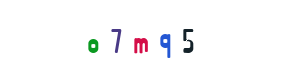5: (109, 0, 189, 80)
7: (101, 0, 181, 80)
M: (104, 0, 184, 80)
O: (100, 0, 180, 80)
Q: (107, 0, 187, 80)
